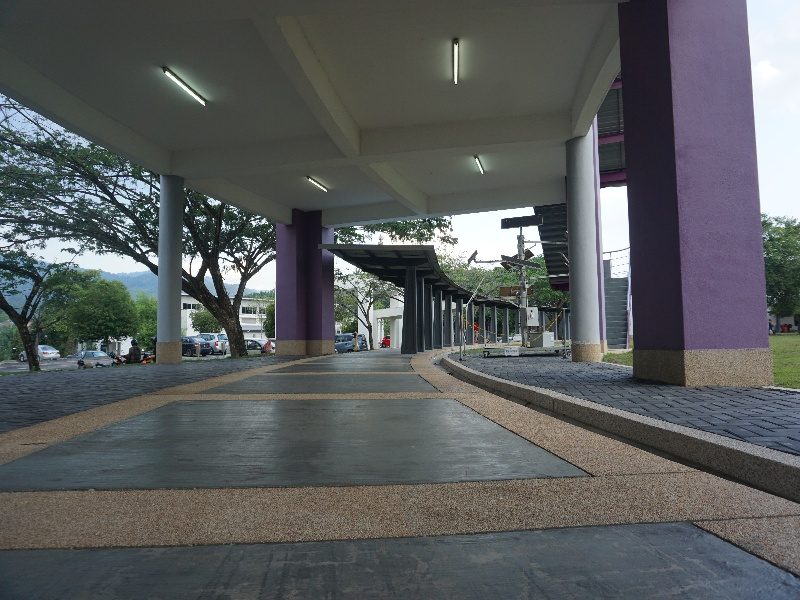Block D Pillar 4: (7, 4, 800, 510)
pillar: (607, 9, 779, 394), (272, 201, 343, 369), (565, 126, 612, 365), (153, 169, 189, 365), (403, 264, 413, 362)
